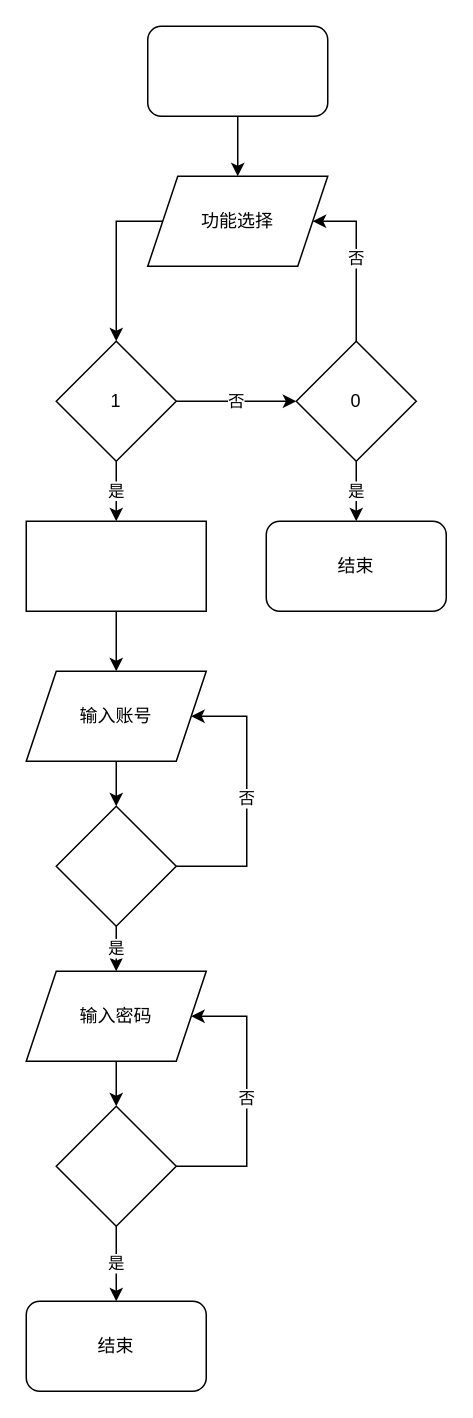
The diagram is 473 pixels wide and 1418 high, and some of its shapes have lost their labels. Each missing label, with the centre of its shape:
开始: [237,70]
是否存在: [115,865]
是否正确: [115,1165]
登录: [115,565]
